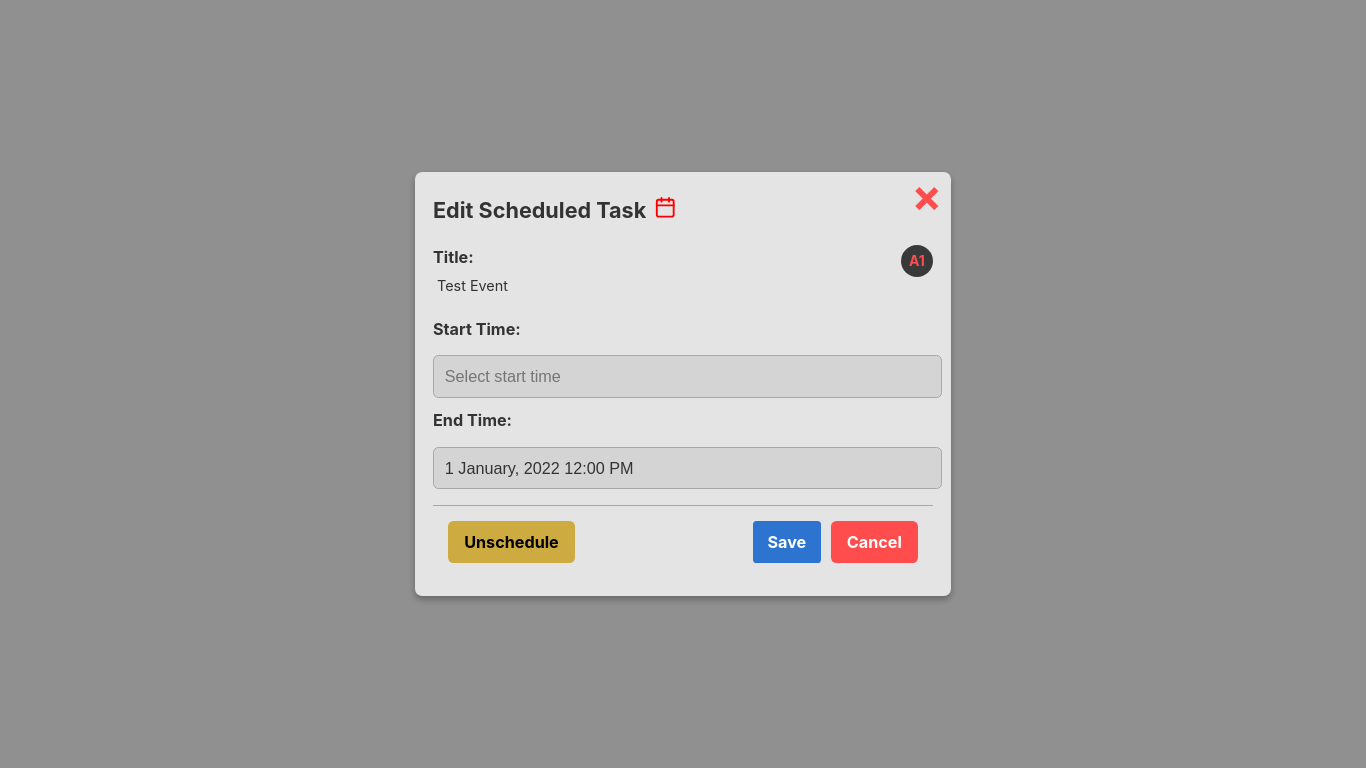
Test: ScheduleEditModal - Integration Tests › shows error when start or end time is missing
The width and height of the screenshot is (1366, 768).
Click the button "Save": click(787, 542) [753,522,821,563]
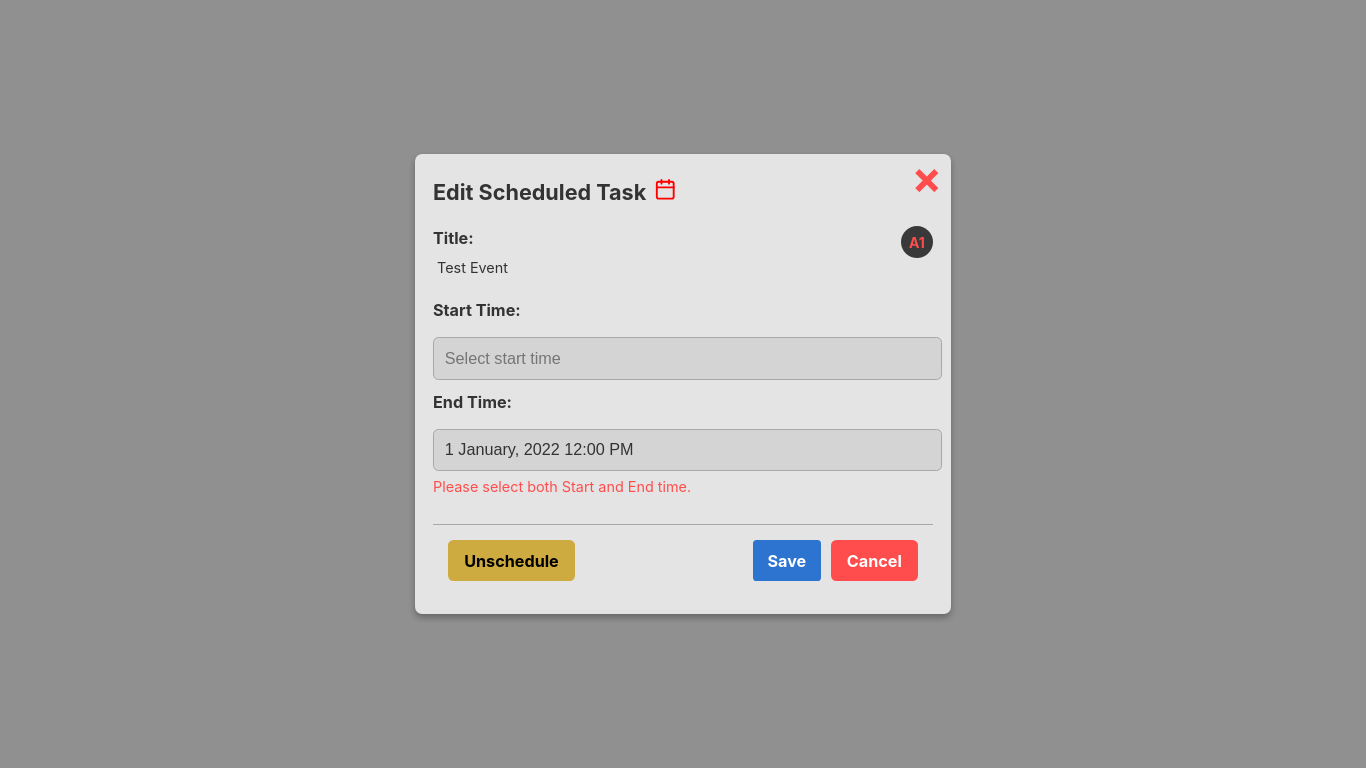
Expected: the text "Please select both Start and End time." is shown, [433,478,691,495]
